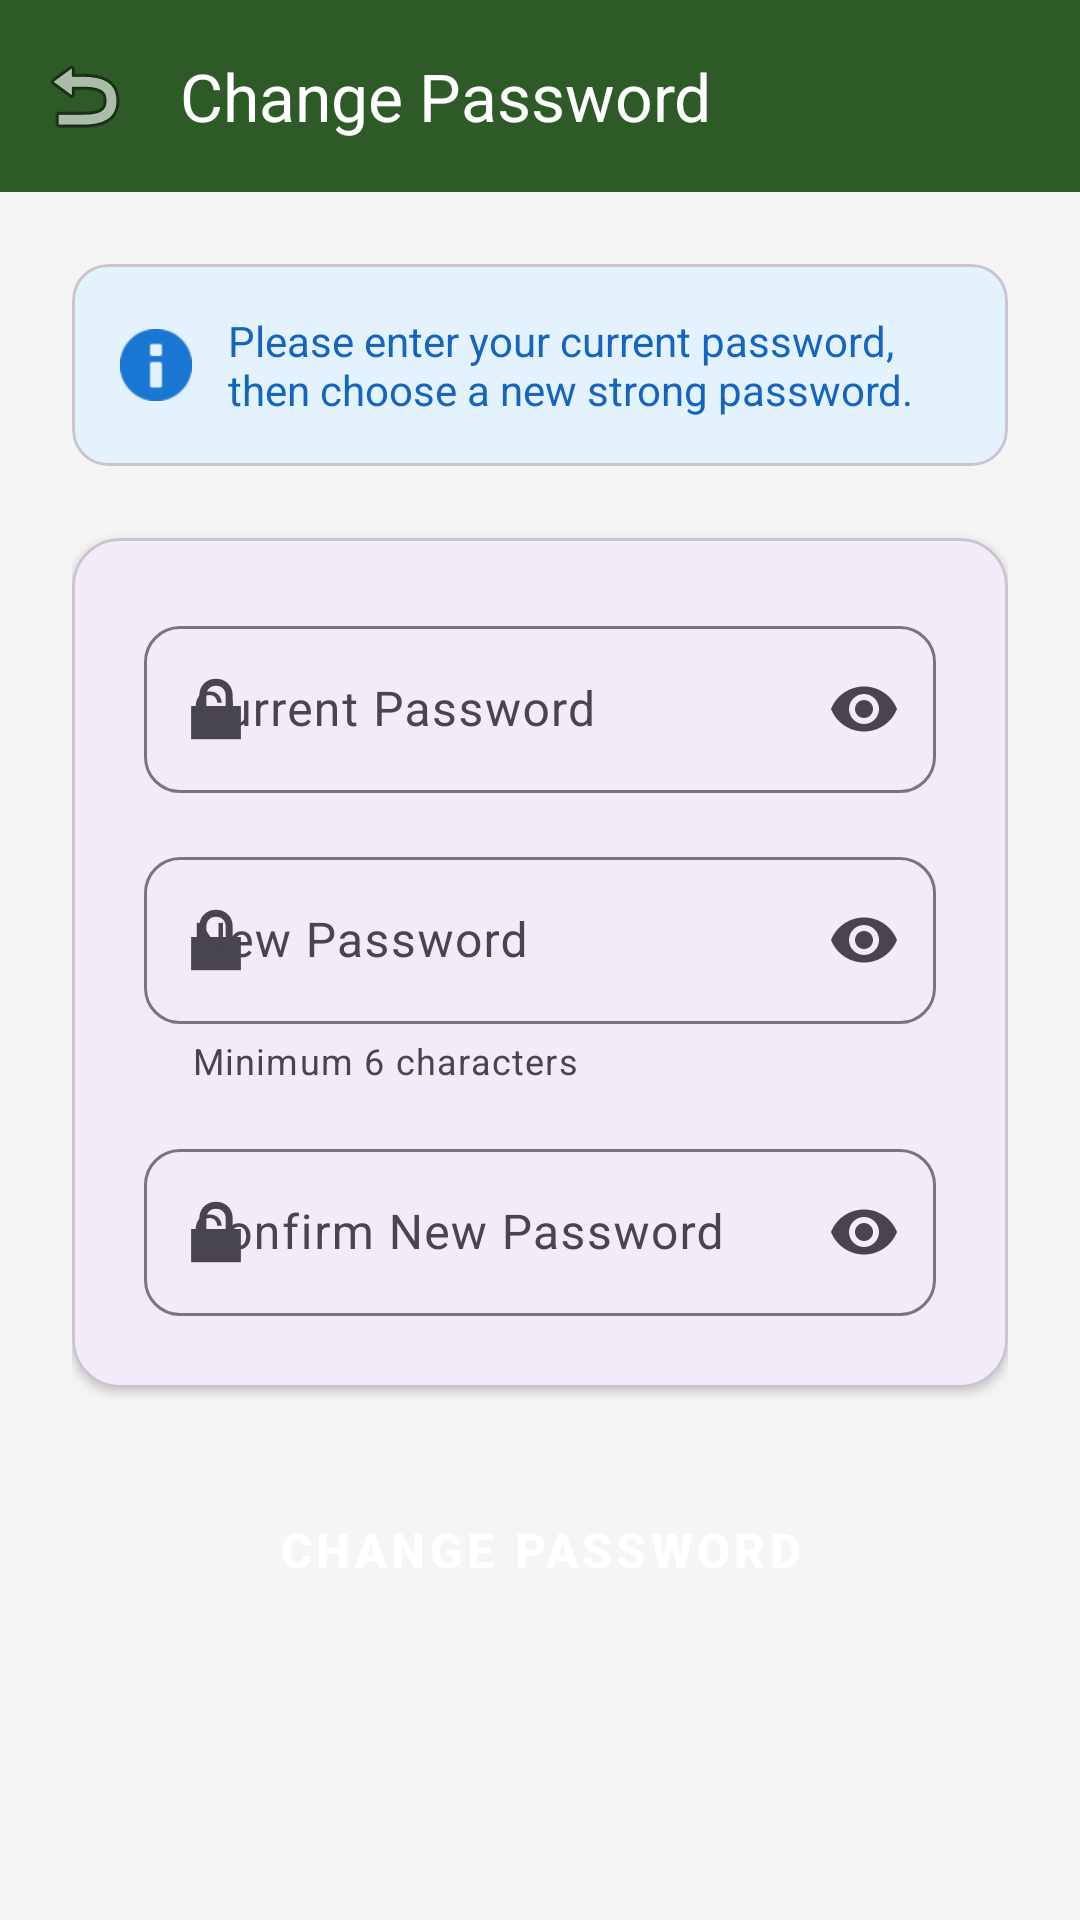

Screen size 1080×1920. Icon name, then its center in pixels as (x,y):
Info icon: (156,365)
